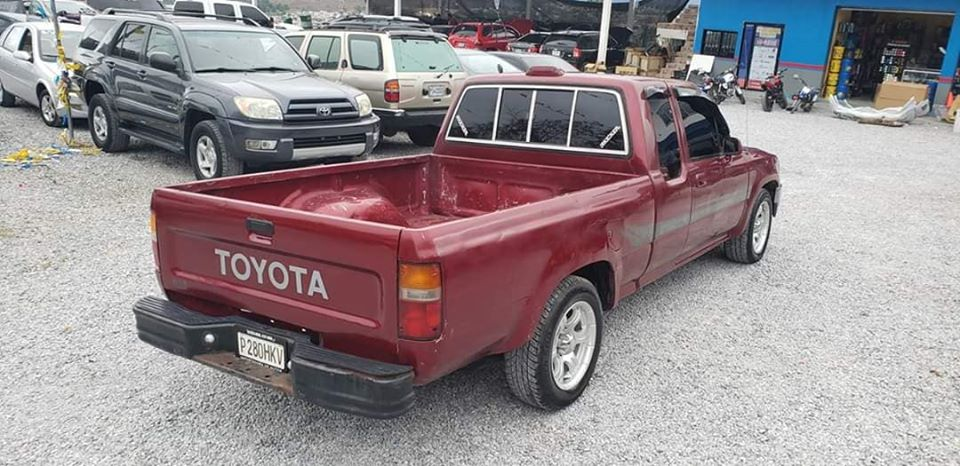pickup: (122, 72, 819, 405)
